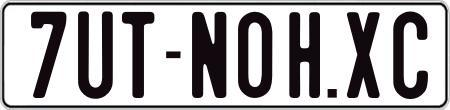0: (235, 9, 273, 96)
7: (28, 12, 68, 101)
C: (390, 11, 431, 103)
H: (288, 11, 323, 101)
N: (189, 11, 227, 101)
T: (120, 10, 155, 99)
U: (76, 8, 113, 99)
X: (347, 10, 383, 102)
